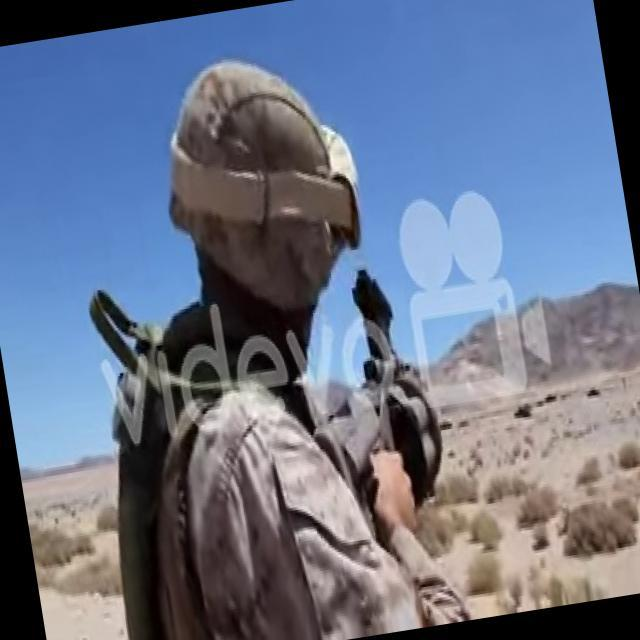rocket: (310, 279, 454, 533)
